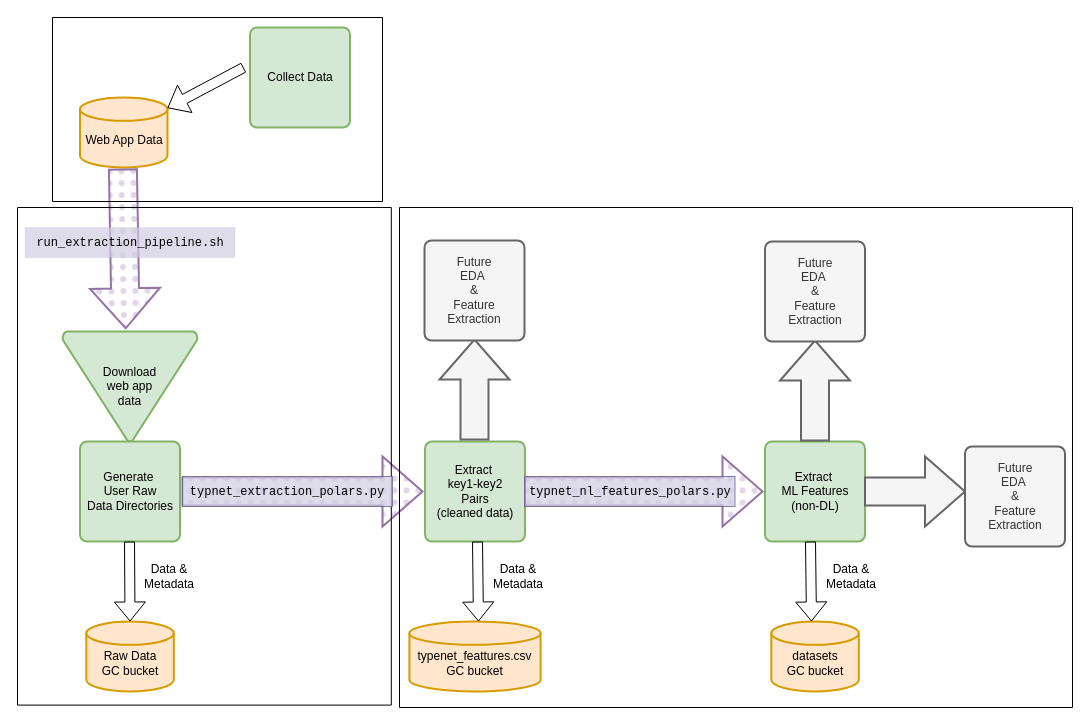
Image size: 1090x725. Some labels were removed from this diagram. Each missing label, with the centre of its shape:
Data Cleaning & EDA: pixel 203 455
Data Collection: pixel 217 109
Feature Extraction & EDA: pixel 735 457
